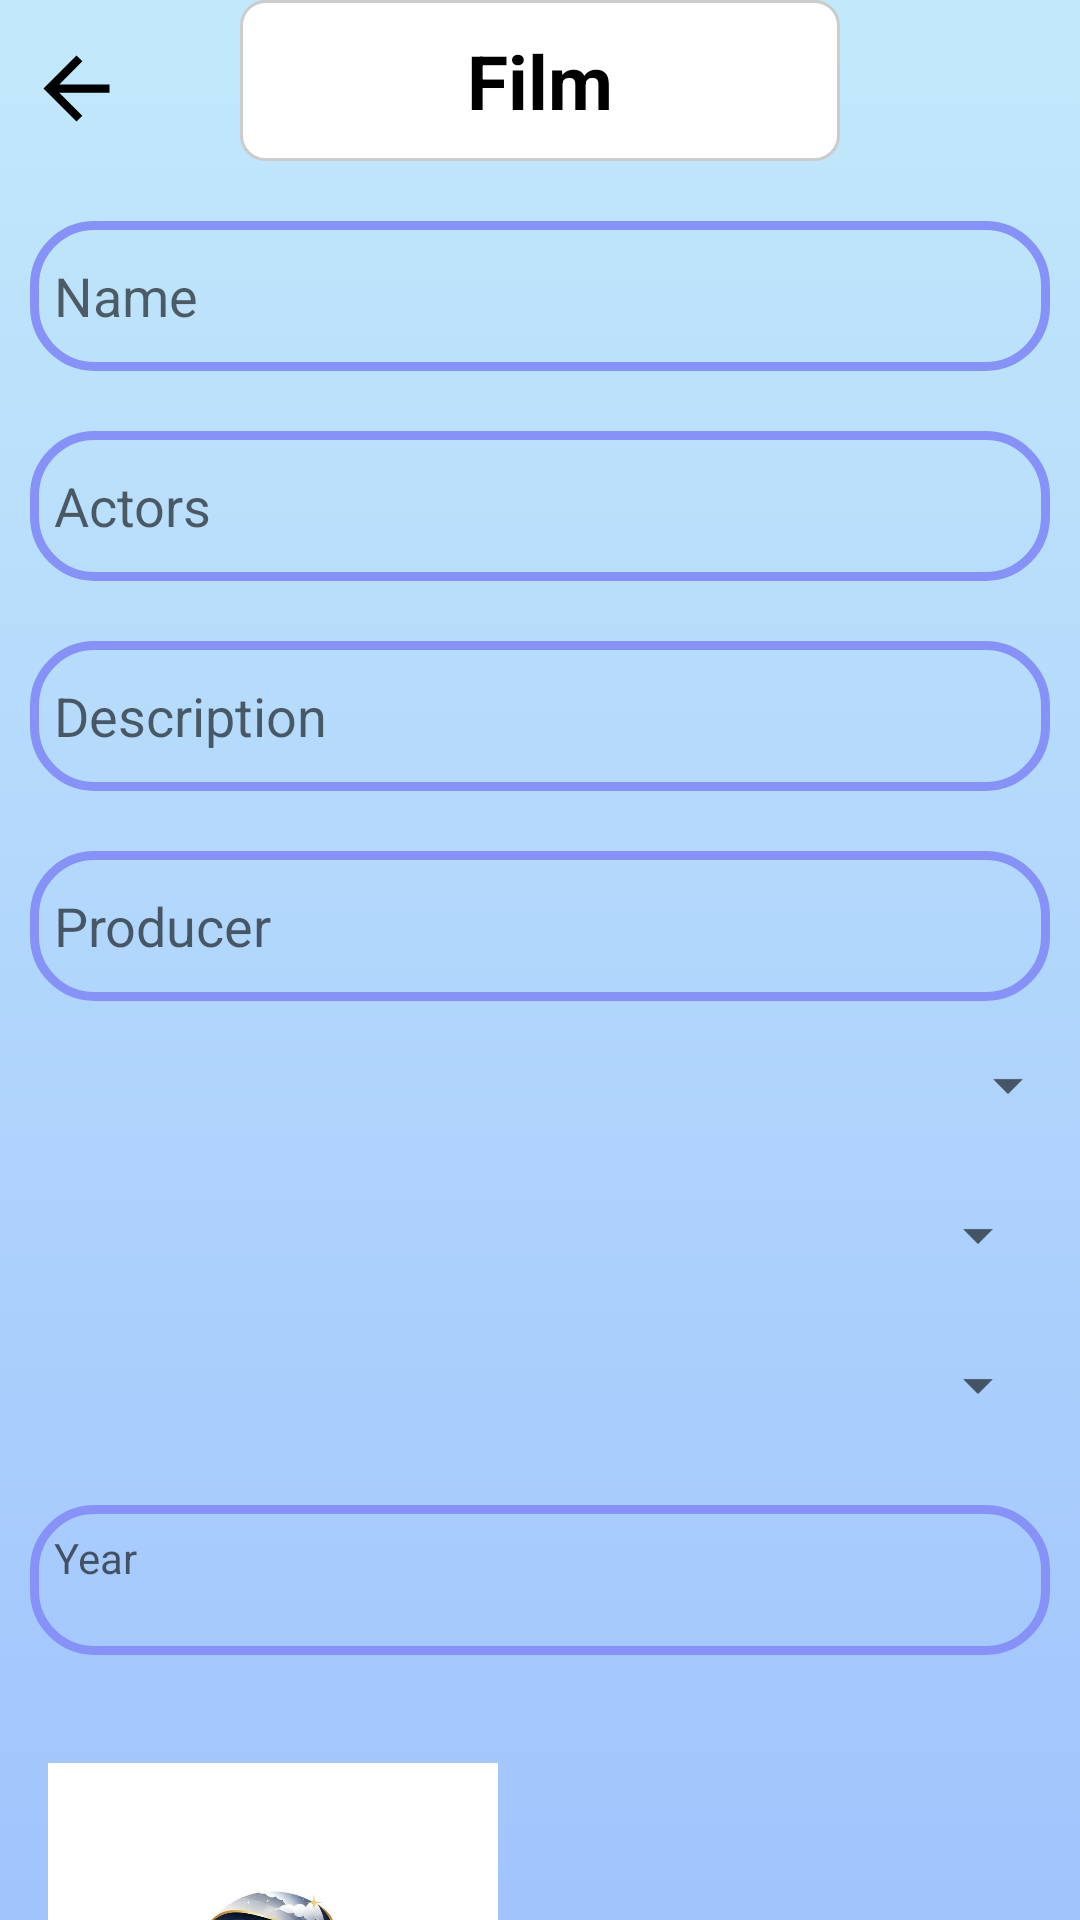

Where icons sit on this 1080 × 1920 app screen, as region(x1, y1, x2, y2):
back arrow: region(43, 55, 110, 122)
